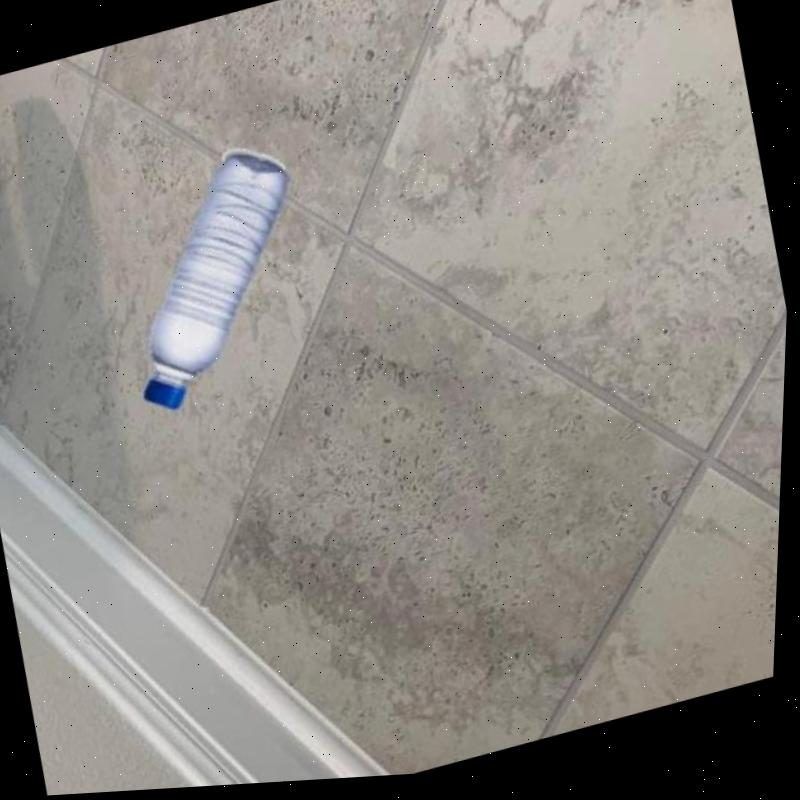botella: (97, 141, 331, 422)
